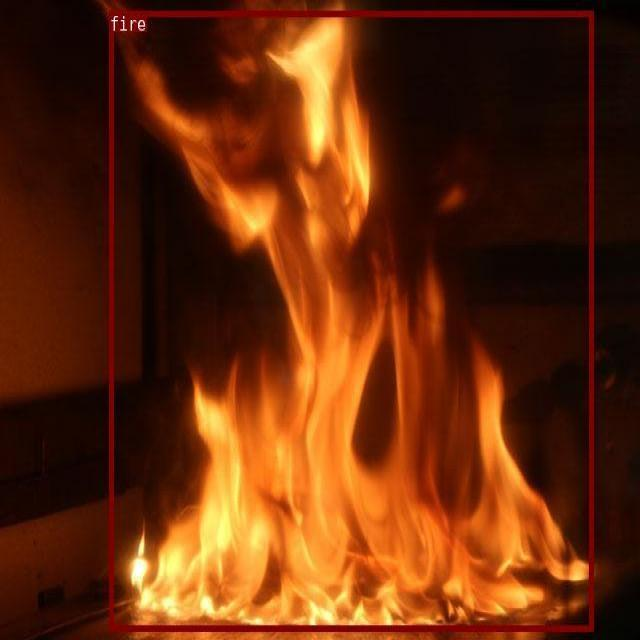fire: (109, 11, 592, 630)
